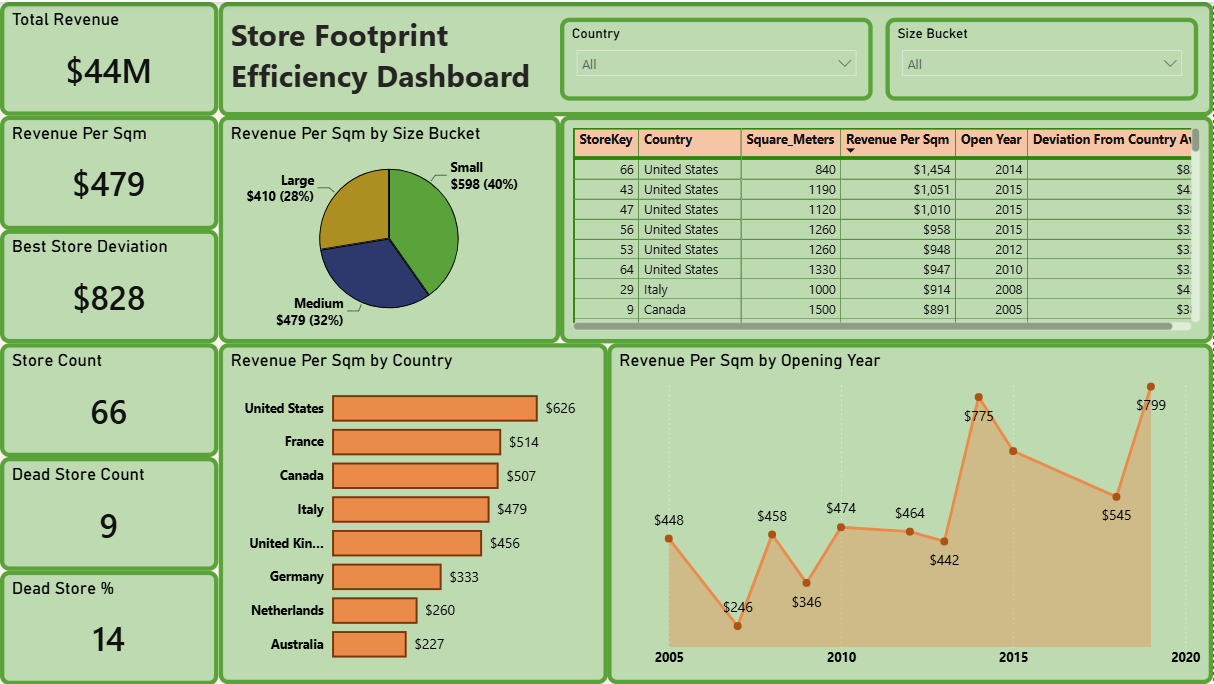

What the dashboard file says about the page in this screenshot:
{"tool":"powerbi","page":{"name":"Store footprint efficiency Report","canvas":[1280,720],"ordinal":0},"visuals":[{"type":"cardVisual","title":"Total Revenue","fields":{"Data":["All_Measures.Total Revenue"]},"box":[0,0,230,120],"z":0},{"type":"cardVisual","title":"Revenue Per Sqm","fields":{"Data":["All_Measures.Revenue per sqm"]},"box":[0,119.7,230,120.4],"z":1000},{"type":"cardVisual","title":"Store Count","fields":{"Data":["All_Measures.Store count"]},"box":[0,359.5,230,120],"z":2000},{"type":"cardVisual","title":"Dead Store Count","fields":{"Data":["All_Measures.Dead Store Count"]},"box":[0,479.2,230,120],"z":3000},{"type":"cardVisual","title":"Dead Store %","fields":{"Data":["All_Measures.Dead Store %"]},"box":[0,598.9,230,120.4],"z":4000},{"type":"cardVisual","title":"Best Store Deviation","fields":{"Data":["All_Measures.Best Store Deviation"]},"box":[0,239.8,230,120],"z":5000},{"type":"clusteredBarChart","title":"Revenue Per Sqm by Country","fields":{"Y":["All_Measures.Revenue Per Sqm"],"Category":["vw_Stores.Country"]},"box":[230.4,359.7,410.2,359.7],"z":6000},{"type":"textbox","box":[230.4,0,1049.2,120.4],"z":7000},{"type":"tableEx","fields":{"Values":["vw_Stores.StoreKey","vw_Stores.Country","vw_Stores.Square_Meters","All_Measures.Revenue Per Sqm","vw_Stores.Open Year","All_Measures.Deviation From Country Avg"]},"box":[557.3,120,721.6,239.9],"z":8000},{"type":"pieChart","title":"Revenue Per Sqm by Size Bucket","fields":{"Y":["All_Measures.Revenue Per Sqm"],"Category":["vw_Stores.Size_Bucket"]},"box":[230.7,120,326.7,239.9],"z":9000},{"type":"lineChart","title":"Revenue Per Sqm by Opening Year","fields":{"Y":["All_Measures.Revenue Per Sqm"],"Category":["vw_Stores.Open Year"]},"box":[640.5,359.7,639,359.7],"z":10000},{"type":"slicer","title":"Country","fields":{"Values":["vw_Stores.Country"]},"box":[590,16.3,329.9,87.7],"z":11000},{"type":"slicer","title":"Size Bucket","fields":{"Values":["vw_Stores.Size_Bucket"]},"box":[933.3,16.3,329.9,87.7],"z":12000}]}

Visuals, with their boxes in screenshot pixels (x1, y1, x2, y2), scaled from the page's 1280x720 canvas onto the 1214x684 screenshot:
"Total Revenue" cardVisual: 0, 0, 218, 114
"Revenue Per Sqm" cardVisual: 0, 114, 218, 228
"Store Count" cardVisual: 0, 342, 218, 456
"Dead Store Count" cardVisual: 0, 455, 218, 569
"Dead Store %" cardVisual: 0, 569, 218, 683
"Best Store Deviation" cardVisual: 0, 228, 218, 342
"Revenue Per Sqm by Country" clusteredBarChart: 219, 342, 608, 683
textbox: 219, 0, 1213, 114
tableEx - vw_Stores.StoreKey x vw_Stores.Country: 529, 114, 1213, 342
"Revenue Per Sqm by Size Bucket" pieChart: 219, 114, 529, 342
"Revenue Per Sqm by Opening Year" lineChart: 607, 342, 1213, 683
"Country" slicer: 560, 15, 872, 99
"Size Bucket" slicer: 885, 15, 1198, 99
